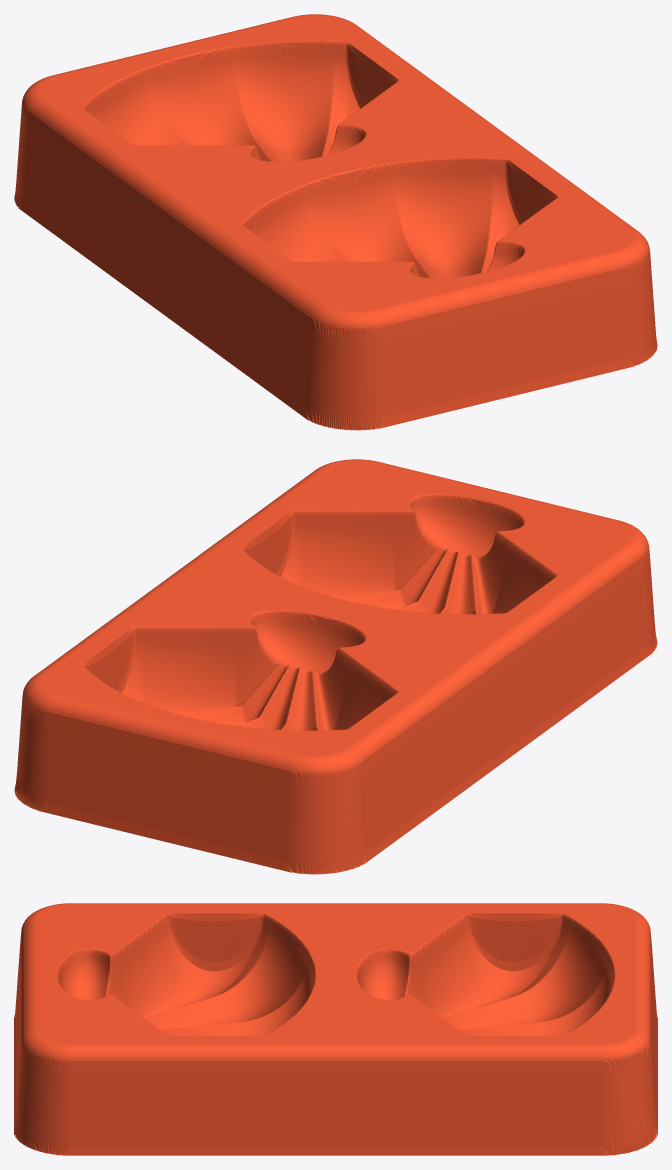
File: mold.glb
3 renders of one model, top to bottom at view 1: azimuth 30°, elevation 25°; view 2: azimuth 150°, elevation 25°; view 3: azimuth 270°, elevation 25°, orthographic. The views are drawn at different scales.
Parts seen in each view (by area): view 1: geometry_0; view 2: geometry_0; view 3: geometry_0.
Boxes of the visible parts, left/top/right/bottom form: geometry_0: left=14, top=14, right=657, bottom=430; geometry_0: left=14, top=459, right=657, bottom=874; geometry_0: left=14, top=903, right=657, bottom=1155.
Size of the model in its own units: 0.0594 by 0.0178 by 0.102.
